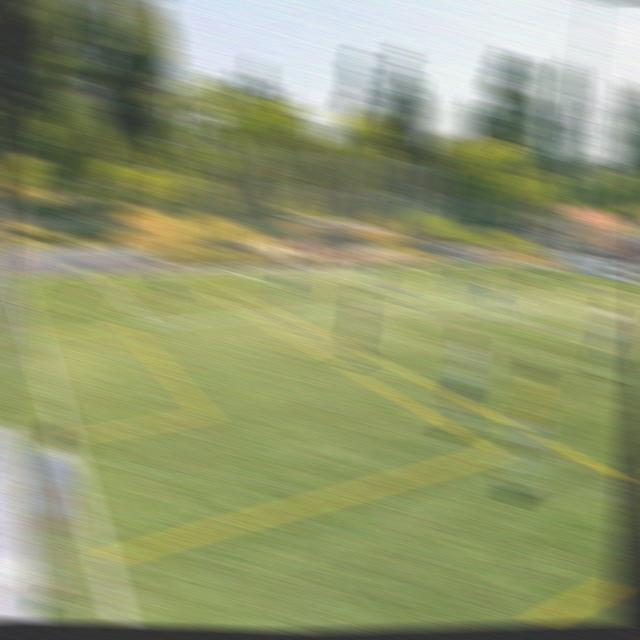bigarea_bottom_inner: (135, 312, 162, 338)
bigarea_bottom_outter: (84, 265, 108, 284)
bigarea_top_inner: (615, 283, 636, 300)
bigarea_top_outter: (475, 259, 494, 271)
corner: (4, 266, 28, 287), (509, 258, 527, 270)
smallarea_bottom_inner: (248, 271, 270, 290)
smallarea_bottom_outter: (223, 264, 244, 279)
smallarea_top_inner: (429, 265, 449, 284)
top_arc_area_intersection: (513, 290, 533, 305)
